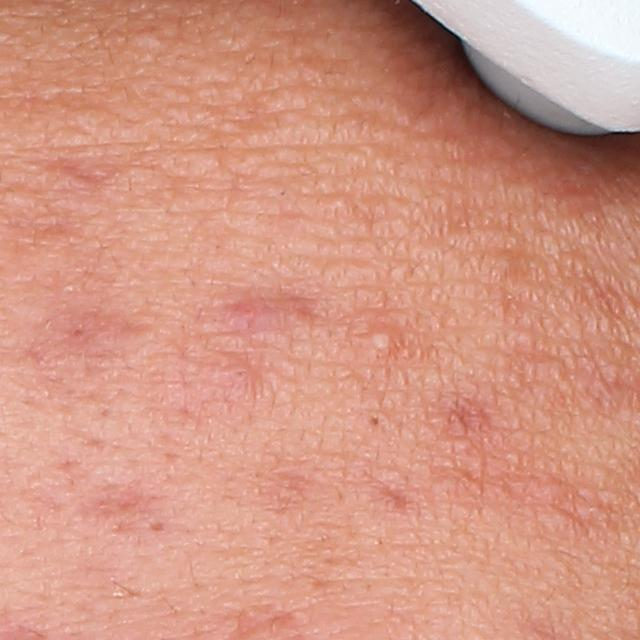comedo: (218, 360, 253, 386), (362, 408, 388, 435)
